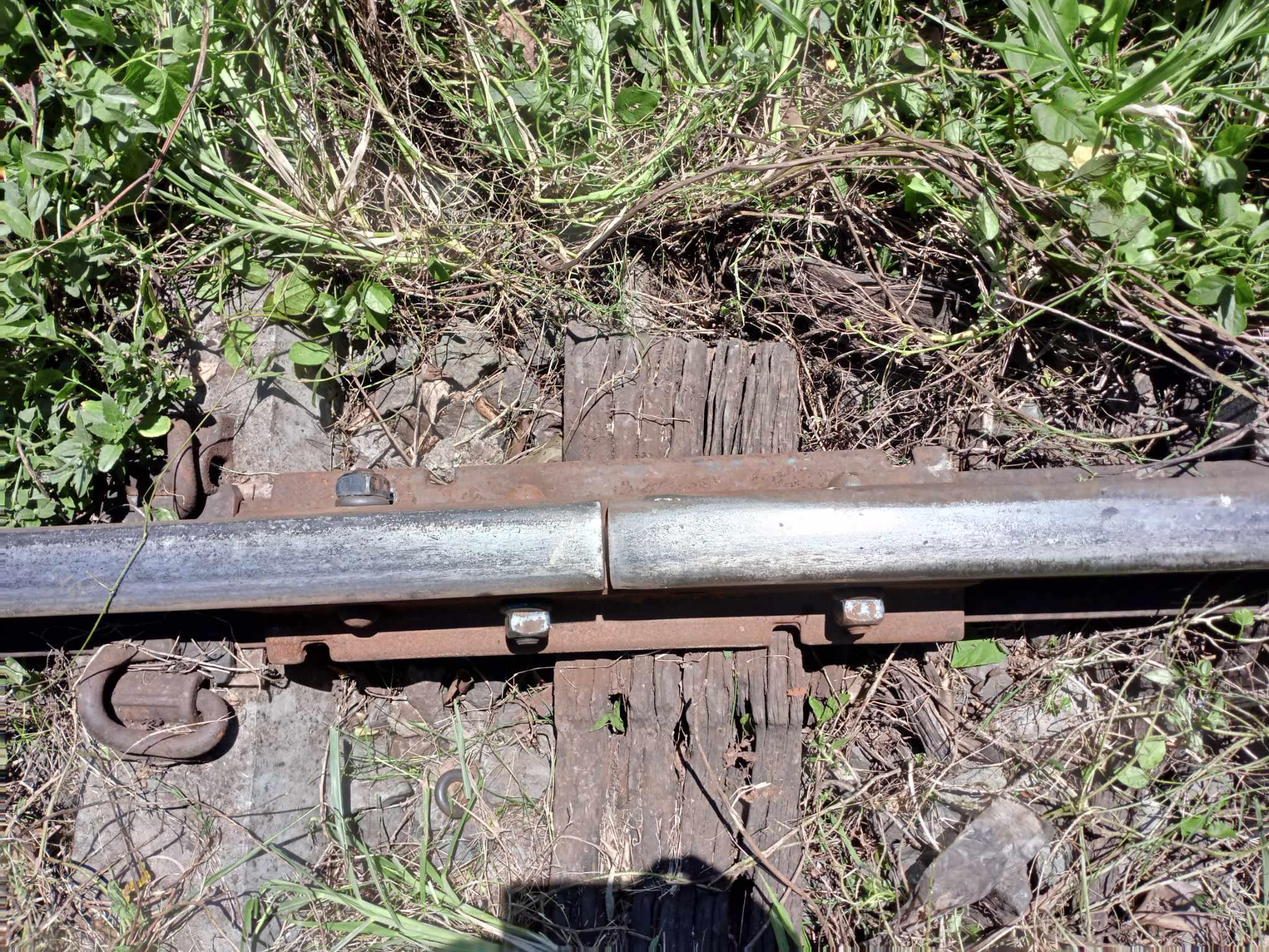railway-gap: (529, 461, 681, 618)
